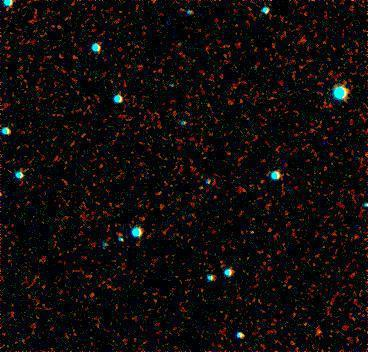star: (305, 317, 335, 347)
